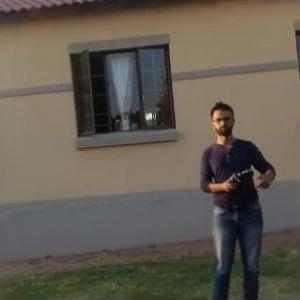follow: (190, 99, 285, 299)
